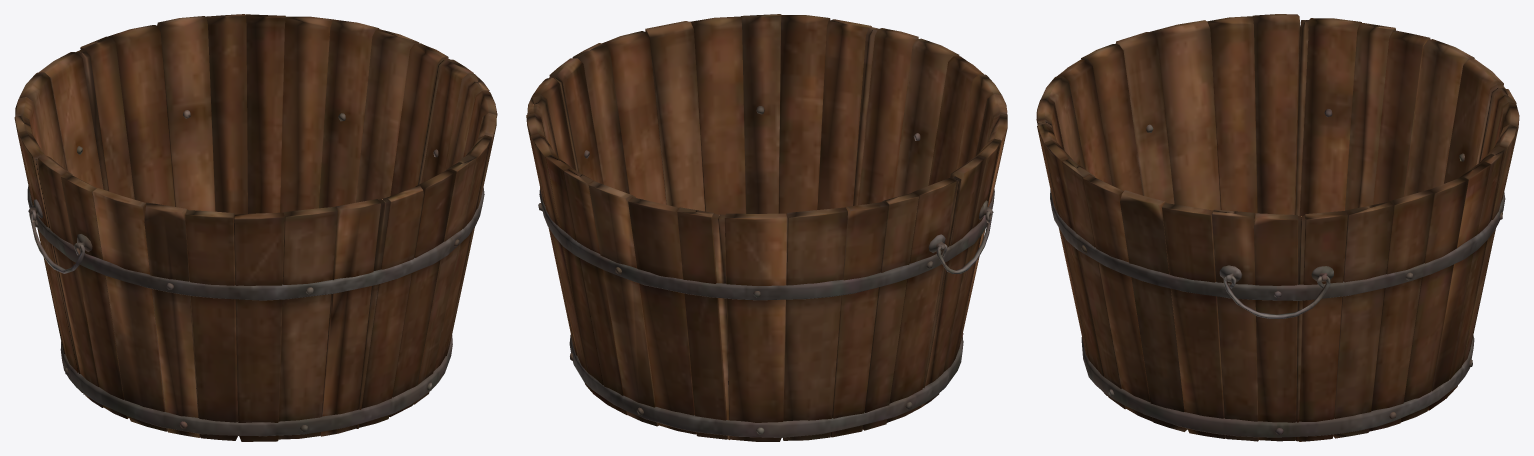
Rendered from wooden_bucket_02.glb.
3 renders of one model, left to right at view 1: azimuth 30°, elevation 25°; view 2: azimuth 150°, elevation 25°; view 3: azimuth 270°, elevation 25°, orthographic.
Visible parts, largest first — view 1: wooden_bucket_02; view 2: wooden_bucket_02; view 3: wooden_bucket_02.
Boxes of the visible parts, left/top/right/bottom form: wooden_bucket_02: left=14, top=14, right=497, bottom=441; wooden_bucket_02: left=526, top=14, right=1007, bottom=441; wooden_bucket_02: left=1036, top=14, right=1519, bottom=441.
Bounding box in the file's own units: 0.6153 × 0.3504 × 0.6163.
Materials: 1 (1 with a texture image).
